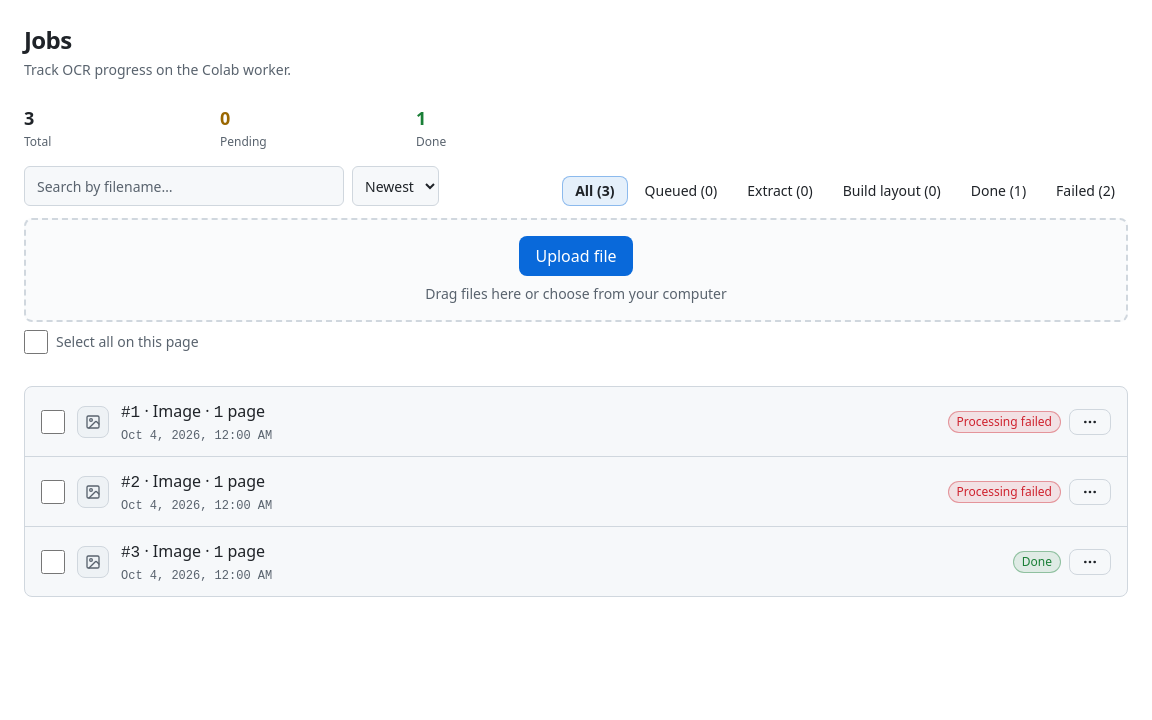
checkbox select shows bulk bar count; select-all toggles the whole page
The width and height of the screenshot is (1152, 720).
Expected: the list item with test id "job-row-1" is shown, top-left (25, 387), bottom-right (1127, 457)
Click the checkbox with test id "row-select-1" at (53, 422), box top-left (41, 410), bottom-right (65, 434)
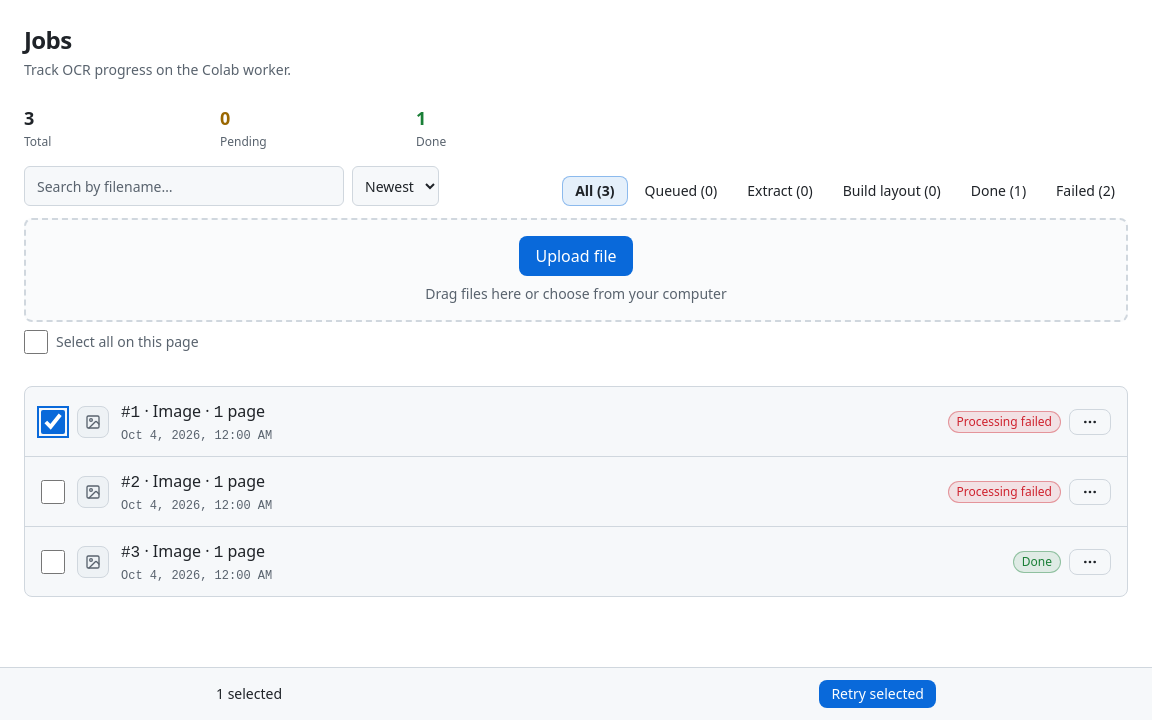
Click the checkbox with test id "row-select-2" at (53, 492), box top-left (41, 480), bottom-right (65, 504)
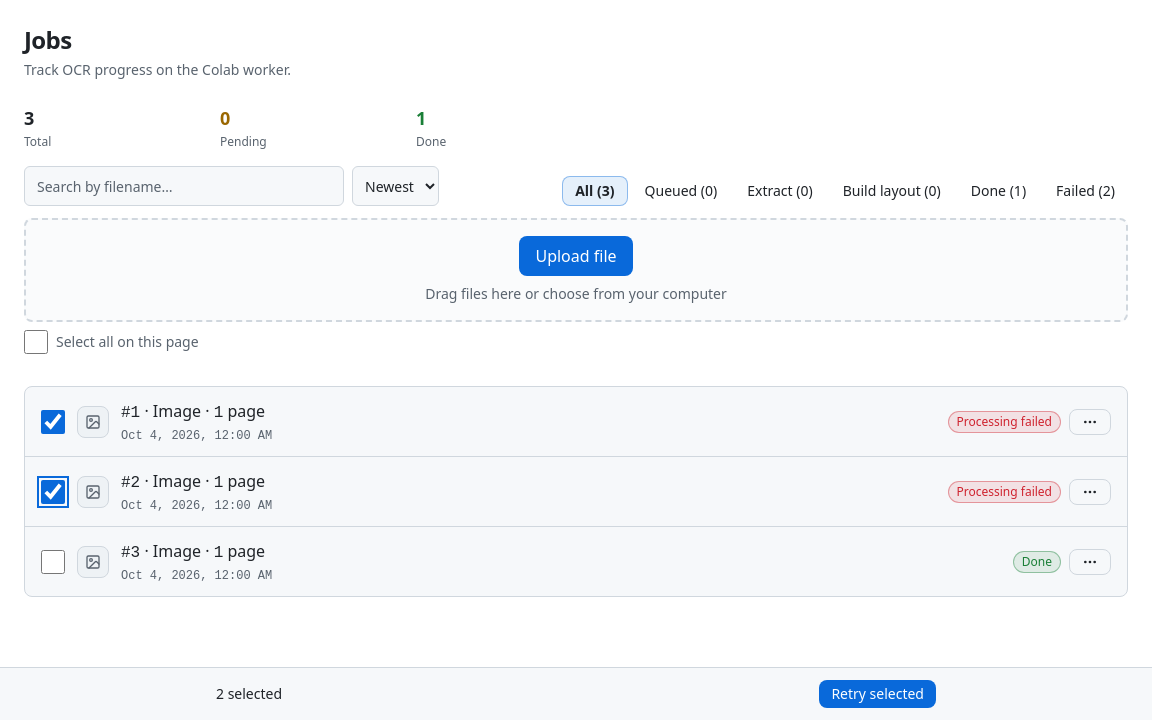
Expected: the text with test id "bulk-count" reads "2 selected", top-left (216, 684), bottom-right (282, 703)
// select-all-page: chọn cả trang, bấm lại → bỏ chọn tất cả.
Click the checkbox with test id "select-all-page" at (36, 342), box top-left (24, 330), bottom-right (48, 354)
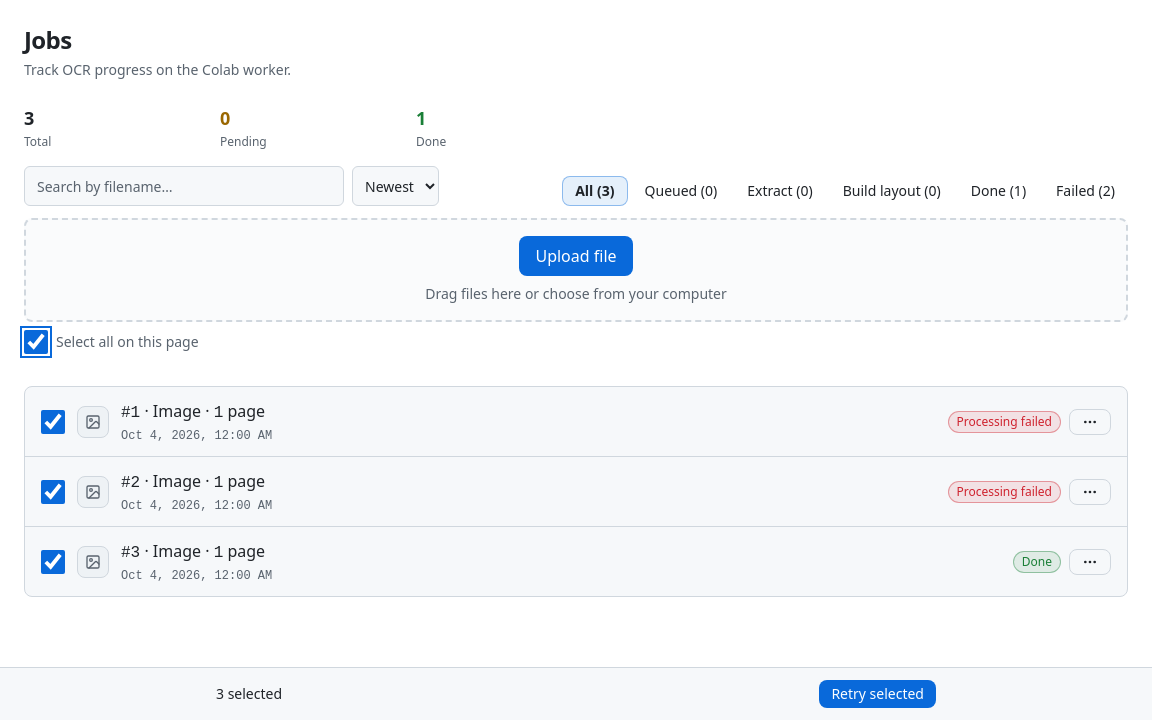
Expected: the text with test id "bulk-count" reads "3 selected", top-left (216, 684), bottom-right (282, 703)
Click the checkbox with test id "select-all-page" at (36, 342), box top-left (24, 330), bottom-right (48, 354)
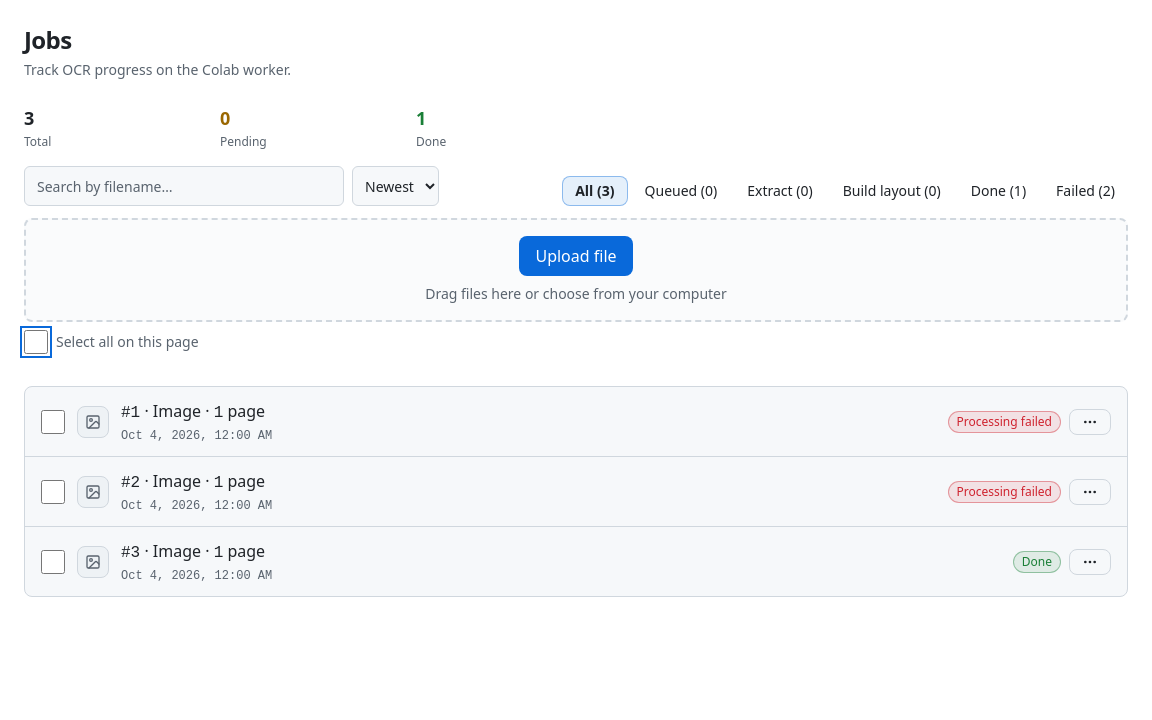
Expected: the element with test id "bulk-bar" is gone
